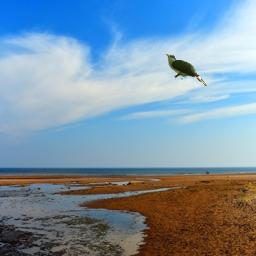Cuckoo: (165, 54, 207, 86)
